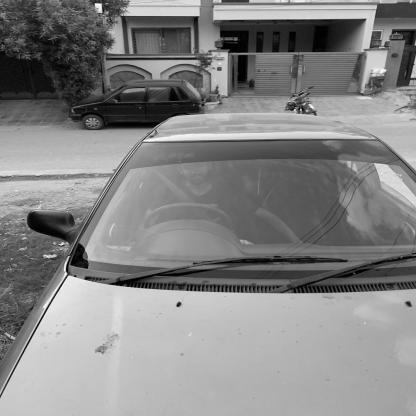seatbelt: (154, 158, 240, 232)
